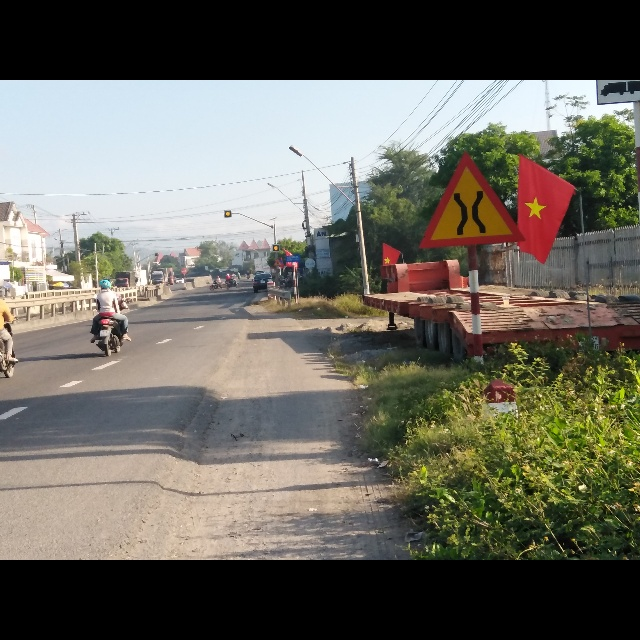Cầu hẹp: (419, 151, 526, 250)
